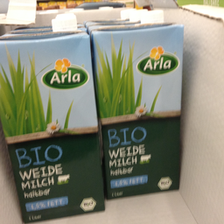milk: (1, 28, 107, 222), (94, 12, 188, 196)
